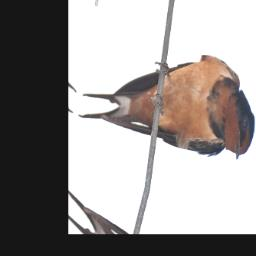Swallow: (77, 0, 256, 198)
